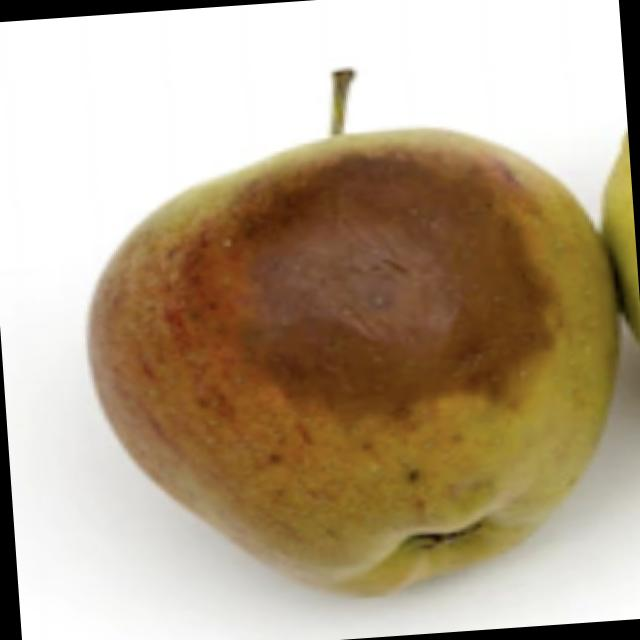rotten_apple: (70, 59, 638, 613)
